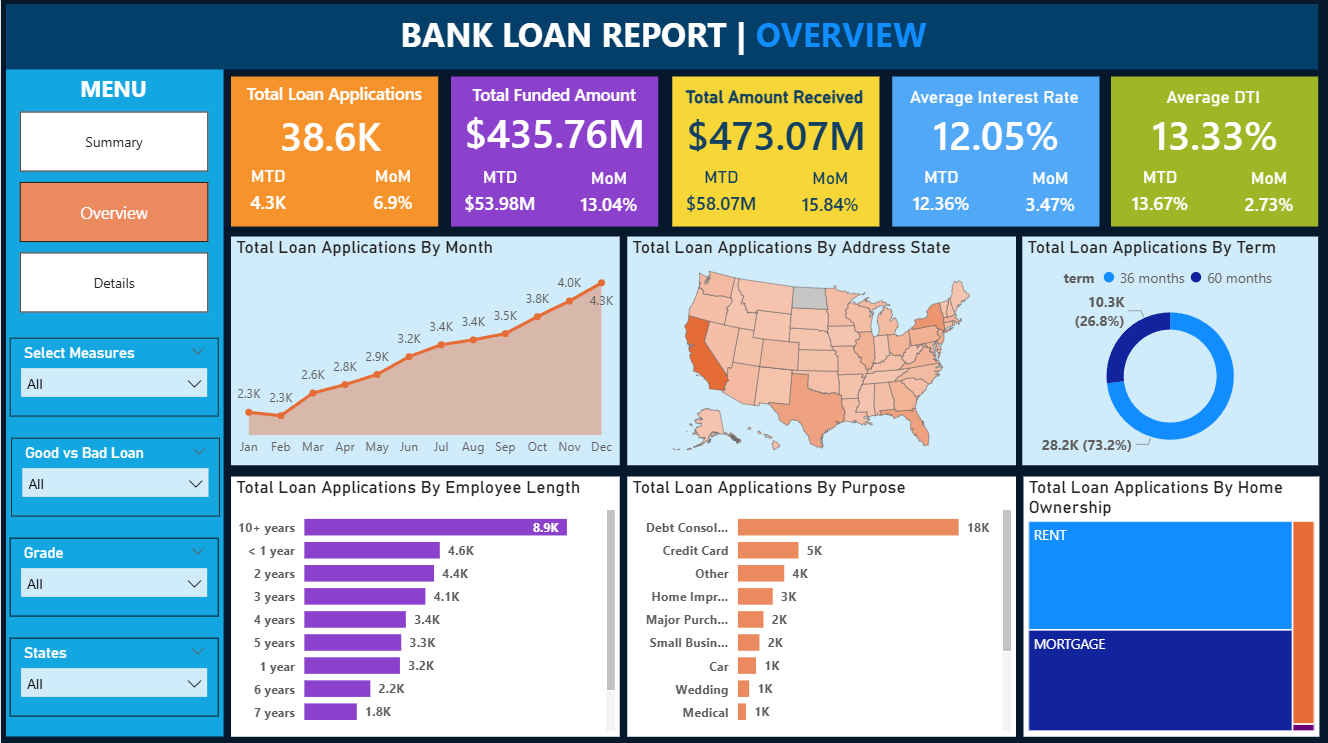

The dashboard page shown, as its layout file describes it:
{"tool":"powerbi","page":{"name":"Overview","canvas":[1280,720],"ordinal":1},"visuals":[{"type":"shape","box":[4.3,4.3,210,707],"z":0},{"type":"group","id":"g1","title":"Total Amount Received","box":[222,74.6,200,145],"z":0,"group":"g4"},{"type":"shape","box":[222,74.6,200,145],"z":0,"group":"g1"},{"type":"shape","box":[434.3,74.6,200,145],"z":0,"group":"g2"},{"type":"shape","box":[648.5,74.6,200,145],"z":0,"group":"g3"},{"type":"shape","box":[860.2,74.6,200,145],"z":0,"group":"g5"},{"type":"shape","box":[1071.6,74.6,200,145],"z":0,"group":"g6"},{"type":"shape","box":[4.3,4.3,1266.7,63.5],"z":1000},{"type":"group","id":"g2","title":"Total Funded Amount","box":[434.3,74.6,200,145],"z":1000,"group":"g4"},{"type":"card","fields":{"Values":["KPI measure.Total Funded Amount"]},"box":[440.1,107.6,188.3,42.4],"z":1000,"group":"g2"},{"type":"card","fields":{"Values":["KPI measure.Total Amount Received"]},"box":[654.1,108.4,188.8,43.7],"z":1000,"group":"g3"},{"type":"card","fields":{"Values":["KPI measure.Avg Interest Rate"]},"box":[865.8,108.4,188.8,43.7],"z":1000,"group":"g5"},{"type":"card","fields":{"Values":["KPI measure.Average DTI"]},"box":[1077.2,108.4,188.8,43.7],"z":1000,"group":"g6"},{"type":"card","fields":{"Values":["KPI measure.Total Loan Applications"]},"box":[248.9,111.1,139.2,41.3],"z":1000,"group":"g1"},{"type":"textbox","box":[373.7,7.2,530.9,53.4],"z":2000},{"type":"group","id":"g3","title":"Total Amount Received","box":[648.5,74.6,200.3,145],"z":2000,"group":"g4"},{"type":"textbox","box":[226.8,75.1,189.4,32.6],"z":2000,"group":"g1"},{"type":"textbox","box":[438.7,76.3,189.4,38.6],"z":2000,"group":"g2"},{"type":"textbox","title":"Total Amount Received","box":[652.7,84.5,190.2,16.9],"z":2000,"group":"g3"},{"type":"textbox","title":"Average Interest Rate","box":[864.4,84.5,190.2,24],"z":2000,"group":"g5"},{"type":"textbox","title":"Average DTI","box":[1075.8,84.5,190.2,24],"z":2000,"group":"g6"},{"type":"group","id":"g4","title":"KPIs","box":[222,74.6,1049.9,145],"z":3000},{"type":"group","id":"g5","title":"Average Interest RAte","box":[860.2,74.6,200.3,145],"z":3000,"group":"g4"},{"type":"card","title":"MTD","fields":{"Values":["KPI measure.MTD Loan Applications"]},"box":[231.4,160.7,52.6,55.4],"z":3000,"group":"g1"},{"type":"card","title":"MTD","fields":{"Values":["KPI measure.MTD Total Funded Amount"]},"box":[435.5,161.8,92.4,55.4],"z":3000,"group":"g2"},{"type":"card","title":"MTD","fields":{"Values":["KPI measure.MTD Total Amount Received"]},"box":[649.7,161.8,92.4,55.4],"z":3000,"group":"g3"},{"type":"card","title":"MTD","fields":{"Values":["KPI measure.MTD Average Interest Rate"]},"box":[861.4,161.8,92.4,55.4],"z":3000,"group":"g5"},{"type":"card","title":"MTD","fields":{"Values":["KPI measure.MTD Average DTI"]},"box":[1072.8,161.8,92.4,55.4],"z":3000,"group":"g6"},{"type":"group","id":"g6","title":"Average DTI","box":[1071.6,74.6,200.3,145],"z":4000,"group":"g4"},{"type":"card","title":"MoM","fields":{"Values":["KPI measure.MoM Loan Applications"]},"box":[347.1,160.7,62,55.4],"z":4000,"group":"g1"},{"type":"card","title":"MoM","fields":{"Values":["KPI measure.MoM Funded Amount"]},"box":[549.3,162.1,76,55.4],"z":4000,"group":"g2"},{"type":"card","title":"MoM","fields":{"Values":["KPI measure.MoM Amount Received"]},"box":[763.5,162.1,76,55.4],"z":4000,"group":"g3"},{"type":"card","title":"MoM","fields":{"Values":["KPI measure.MoM Average Interest Rate"]},"box":[975.2,162.1,76,55.4],"z":4000,"group":"g5"},{"type":"card","title":"MoM","fields":{"Values":["KPI measure.MoM Average DTI"]},"box":[1186.6,162.1,76,55.4],"z":4000,"group":"g6"},{"type":"slicer","fields":{"Values":["financial_loan.address_state"]},"box":[8.4,616.5,201.5,76],"z":4000},{"type":"slicer","fields":{"Values":["financial_loan.grade"]},"box":[8.4,520,201.5,76],"z":5000},{"type":"slicer","fields":{"Values":["financial_loan.Good vs Bad Loan"]},"box":[9.7,423.5,201.5,76],"z":6000},{"type":"areaChart","title":"Total Loan Applications By Month","fields":{"Category":["Date Table.Month"],"Y":["KPI measure.Total Loan Applications"]},"box":[222,229.2,375.2,220.8],"z":7000},{"type":"slicer","fields":{"Values":["Select Measures.Select Measures"]},"box":[8.4,326.9,201.5,76],"z":8000},{"type":"shapeMap","title":"Total Loan Applications By Address State","fields":{"Category":["financial_loan.address_state"],"Value":["KPI measure.Total Loan Applications"]},"box":[604.4,229.2,375.2,220.8],"z":9000},{"type":"donutChart","title":"Total Loan Applications By Term","fields":{"Y":["KPI measure.Total Loan Applications"],"Category":["financial_loan.term"]},"box":[985.7,229.2,285.9,220.8],"z":10000},{"type":"clusteredBarChart","title":"Total Loan Applications By Employee Length","fields":{"Category":["financial_loan.emp_length"],"Y":["KPI measure.Total Loan Applications"]},"box":[222,460.9,375.2,250.9],"z":11000},{"type":"clusteredBarChart","title":"Total Loan Applications By Purpose","fields":{"Y":["KPI measure.Total Loan Applications"],"Category":["financial_loan.purpose"]},"box":[604.4,460.9,375.2,250.9],"z":12000},{"type":"treemap","title":"Total Loan Applications By Home Ownership","fields":{"Values":["KPI measure.Total Loan Applications"],"Group":["financial_loan.home_ownership"]},"box":[986.9,460.9,285.9,250.9],"z":13000},{"type":"pageNavigator","box":[18.1,108.6,182.2,194.2],"z":14000},{"type":"textbox","box":[54.3,66.4,108.6,42.2],"z":15000}]}

Visuals, with their boxes in screenshot pixels (x1, y1, x2, y2), scaled from the page's 1280x720 canvas onto the 1328x743 screenshot:
shape: rect(4, 4, 222, 734)
"Total Amount Received" group: rect(230, 77, 438, 227)
shape: rect(230, 77, 438, 227)
shape: rect(451, 77, 658, 227)
shape: rect(673, 77, 880, 227)
shape: rect(892, 77, 1100, 227)
shape: rect(1112, 77, 1319, 227)
shape: rect(4, 4, 1319, 70)
"Total Funded Amount" group: rect(451, 77, 658, 227)
card - KPI measure.Total Funded Amount: rect(457, 111, 652, 155)
card - KPI measure.Total Amount Received: rect(679, 112, 875, 157)
card - KPI measure.Avg Interest Rate: rect(898, 112, 1094, 157)
card - KPI measure.Average DTI: rect(1118, 112, 1313, 157)
card - KPI measure.Total Loan Applications: rect(258, 115, 403, 157)
textbox: rect(388, 7, 939, 63)
"Total Amount Received" group: rect(673, 77, 881, 227)
textbox: rect(235, 77, 432, 111)
textbox: rect(455, 79, 652, 119)
"Total Amount Received" textbox: rect(677, 87, 875, 105)
"Average Interest Rate" textbox: rect(897, 87, 1094, 112)
"Average DTI" textbox: rect(1116, 87, 1313, 112)
"KPIs" group: rect(230, 77, 1320, 227)
"Average Interest RAte" group: rect(892, 77, 1100, 227)
"MTD" card: rect(240, 166, 295, 223)
"MTD" card: rect(452, 167, 548, 224)
"MTD" card: rect(674, 167, 770, 224)
"MTD" card: rect(894, 167, 990, 224)
"MTD" card: rect(1113, 167, 1209, 224)
"Average DTI" group: rect(1112, 77, 1320, 227)
"MoM" card: rect(360, 166, 424, 223)
"MoM" card: rect(570, 167, 649, 224)
"MoM" card: rect(792, 167, 871, 224)
"MoM" card: rect(1012, 167, 1091, 224)
"MoM" card: rect(1231, 167, 1310, 224)
slicer - financial_loan.address_state: rect(9, 636, 218, 715)
slicer - financial_loan.grade: rect(9, 537, 218, 615)
slicer - financial_loan.Good vs Bad Loan: rect(10, 437, 219, 515)
"Total Loan Applications By Month" areaChart: rect(230, 237, 620, 464)
slicer - Select Measures.Select Measures: rect(9, 337, 218, 416)
"Total Loan Applications By Address State" shapeMap: rect(627, 237, 1016, 464)
"Total Loan Applications By Term" donutChart: rect(1023, 237, 1319, 464)
"Total Loan Applications By Employee Length" clusteredBarChart: rect(230, 476, 620, 735)
"Total Loan Applications By Purpose" clusteredBarChart: rect(627, 476, 1016, 735)
"Total Loan Applications By Home Ownership" treemap: rect(1024, 476, 1321, 735)
pageNavigator: rect(19, 112, 208, 312)
textbox: rect(56, 69, 169, 112)
